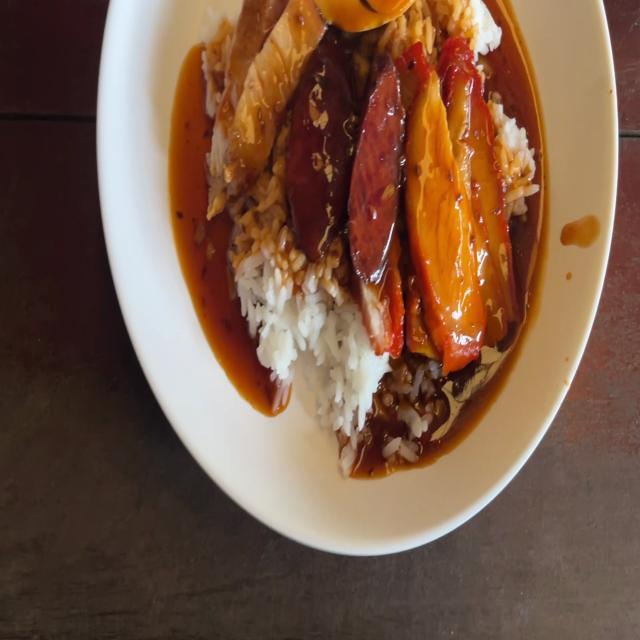stir_fried_basil: (286, 50, 404, 268), (290, 42, 355, 246), (350, 73, 403, 265)
